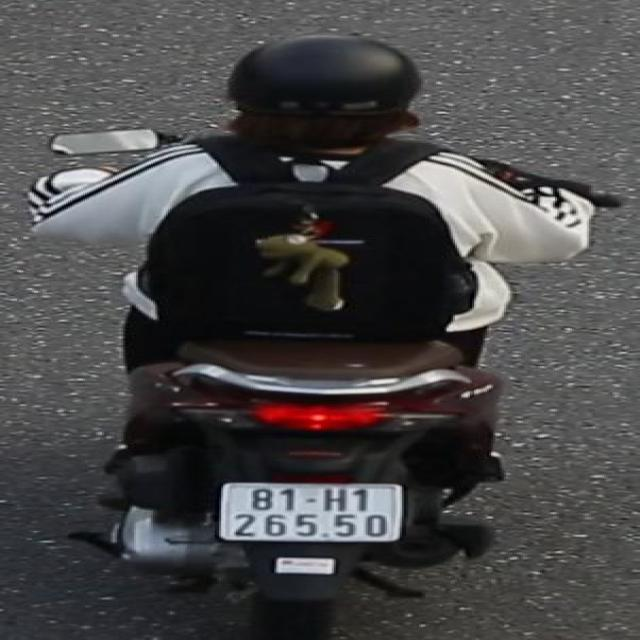LP: (215, 474, 412, 548)
helmet: (210, 31, 439, 158)
